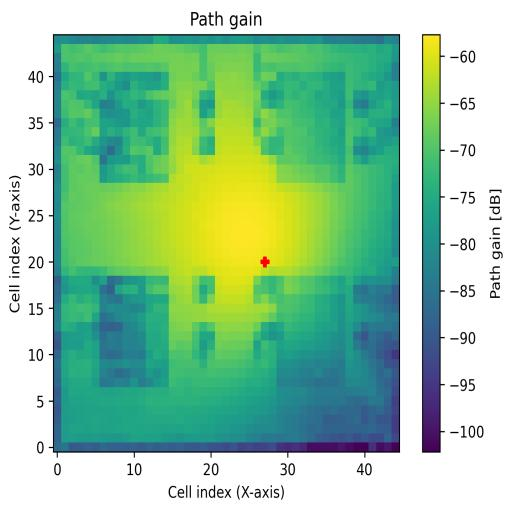Concrete: (277, 72, 346, 182)
Glass: (100, 74, 169, 183)
Metal: (277, 276, 347, 387)
Wood: (100, 276, 169, 390)
